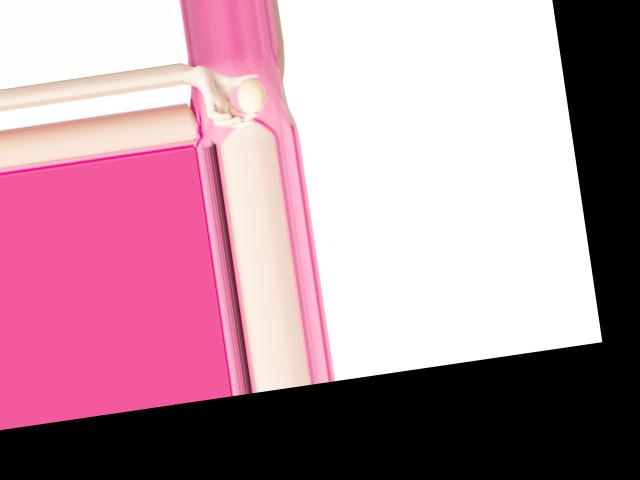egg: (234, 76, 267, 116)
